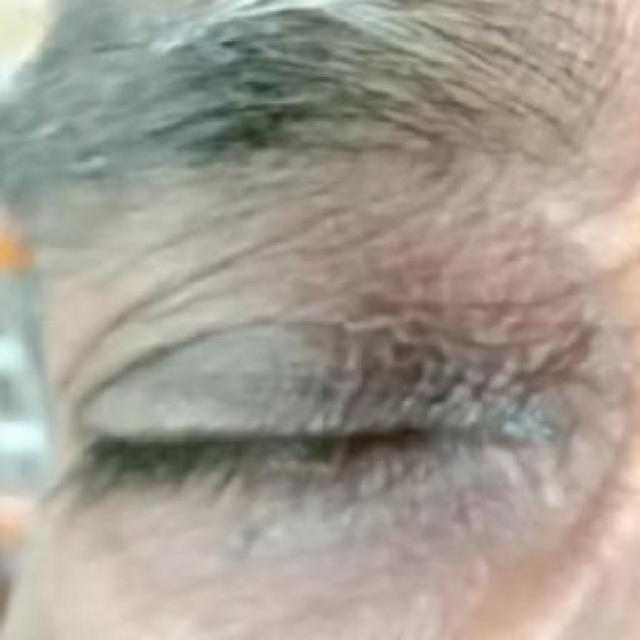drowsy: (68, 267, 497, 638)
